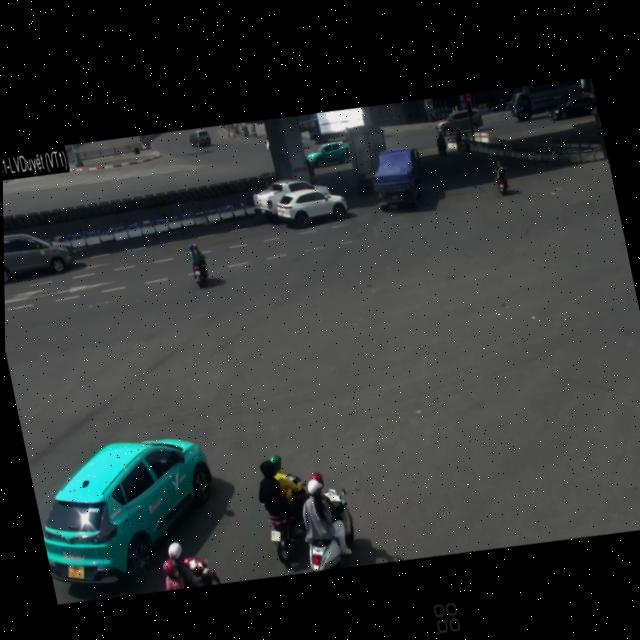Red: (464, 88, 474, 110)
